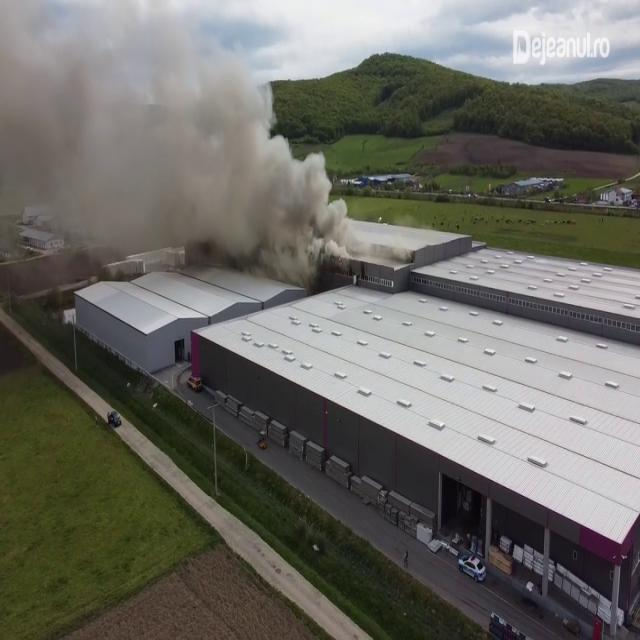Smoke: (0, 0, 358, 273)
